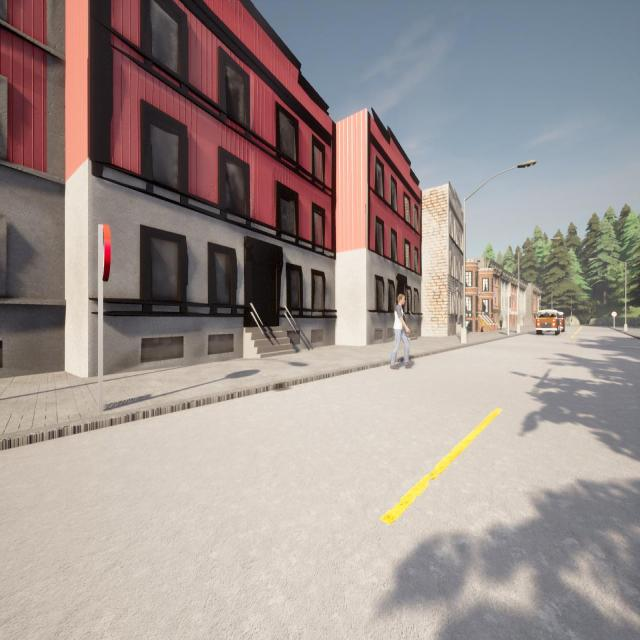Pedestrian: (390, 294, 414, 369), (498, 312, 504, 331), (480, 318, 485, 334)
Traffic_Signs: (100, 224, 110, 284), (611, 310, 617, 318)
Vehicle: (535, 310, 560, 334), (558, 312, 565, 332)
traffic_light: (507, 297, 510, 308)
